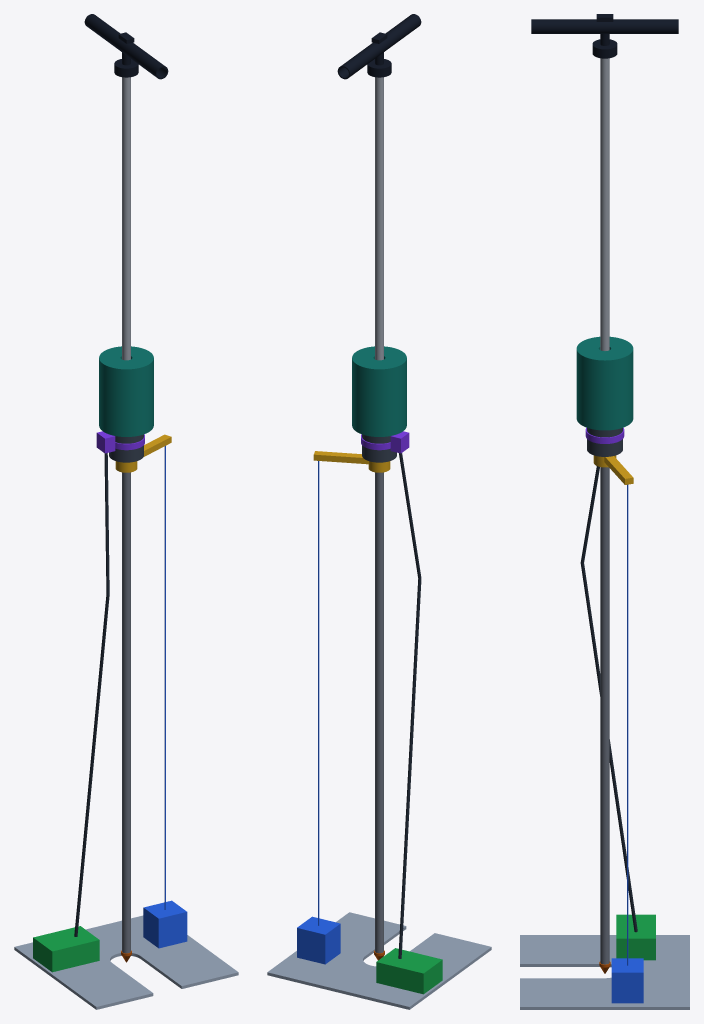
3 renders of one model, left to right at view 1: azimuth 30°, elevation 25°; view 2: azimuth 150°, elevation 25°; view 3: azimuth 270°, elevation 25°, orthographic. The views are drawn at different scales.
Visible parts, largest first — view 1: Reference plate, slotted, Drop hammer, 8 kg, Lower drive rod, 16 mm x 1,000 mm, Draw-wire depth sensor, Upper rod (hammer guide), BLE logger, 3 x AA, Handle, top stop, bubble level, Coiled sensor cable, Anvil and coupler, Blow and tilt sensor pad, Anvil clamp and wire arm, aluminum; view 2: Reference plate, slotted, Drop hammer, 8 kg, Lower drive rod, 16 mm x 1,000 mm, Draw-wire depth sensor, Upper rod (hammer guide), BLE logger, 3 x AA, Coiled sensor cable, Handle, top stop, bubble level, Anvil clamp and wire arm, aluminum, Anvil and coupler, Blow and tilt sensor pad; view 3: Reference plate, slotted, Drop hammer, 8 kg, Lower drive rod, 16 mm x 1,000 mm, Upper rod (hammer guide), Handle, top stop, bubble level, Draw-wire depth sensor, BLE logger, 3 x AA, Coiled sensor cable, Anvil and coupler, Anvil clamp and wire arm, aluminum.
Part boxes in pixels (left/top/right/bottom): Reference plate, slotted: left=14, top=915, right=238, bottom=1009; Drop hammer, 8 kg: left=99, top=346, right=153, bottom=436; Lower drive rod, 16 mm x 1,000 mm: left=122, top=472, right=130, bottom=953; Draw-wire depth sensor: left=143, top=446, right=187, bottom=948; Upper rod (hammer guide): left=122, top=77, right=130, bottom=360; BLE logger, 3 x AA: left=33, top=926, right=99, bottom=972; Handle, top stop, bubble level: left=84, top=14, right=168, bottom=79; Coiled sensor cable: left=74, top=453, right=109, bottom=936; Anvil and coupler: left=109, top=434, right=143, bottom=462; Blow and tilt sensor pad: left=96, top=431, right=144, bottom=453; Anvil clamp and wire arm, aluminum: left=115, top=434, right=171, bottom=472; Reference plate, slotted: left=267, top=912, right=491, bottom=1009; Drop hammer, 8 kg: left=352, top=346, right=406, bottom=436; Lower drive rod, 16 mm x 1,000 mm: left=375, top=472, right=383, bottom=953; Draw-wire depth sensor: left=297, top=461, right=340, bottom=964; Upper rod (hammer guide): left=375, top=77, right=383, bottom=360; BLE logger, 3 x AA: left=376, top=948, right=442, bottom=994; Coiled sensor cable: left=398, top=453, right=421, bottom=958; Handle, top stop, bubble level: left=337, top=14, right=421, bottom=79; Anvil clamp and wire arm, aluminum: left=313, top=451, right=390, bottom=472; Anvil and coupler: left=362, top=434, right=396, bottom=462; Blow and tilt sensor pad: left=361, top=431, right=409, bottom=453; Reference plate, slotted: left=520, top=935, right=689, bottom=1009; Drop hammer, 8 kg: left=576, top=336, right=633, bottom=430; Lower drive rod, 16 mm x 1,000 mm: left=600, top=467, right=609, bottom=964; Upper rod (hammer guide): left=600, top=58, right=609, bottom=350; Handle, top stop, bubble level: left=531, top=14, right=678, bottom=58; Draw-wire depth sensor: left=611, top=484, right=643, bottom=1003; BLE logger, 3 x AA: left=616, top=914, right=655, bottom=960; Coiled sensor cable: left=580, top=466, right=637, bottom=932; Anvil and coupler: left=587, top=428, right=622, bottom=456; Anvil clamp and wire arm, aluminum: left=593, top=455, right=633, bottom=484.
Bounding box in the file's own units: 0.3 × 1.87 × 0.3.
